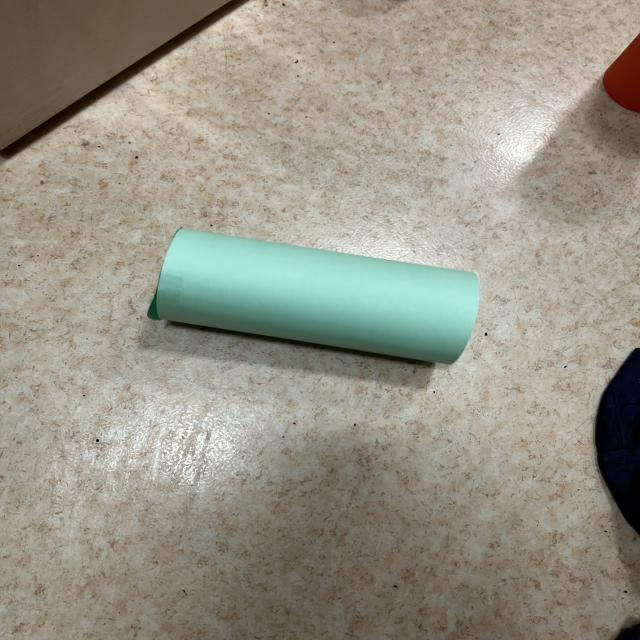meta: (148, 228, 479, 363)
